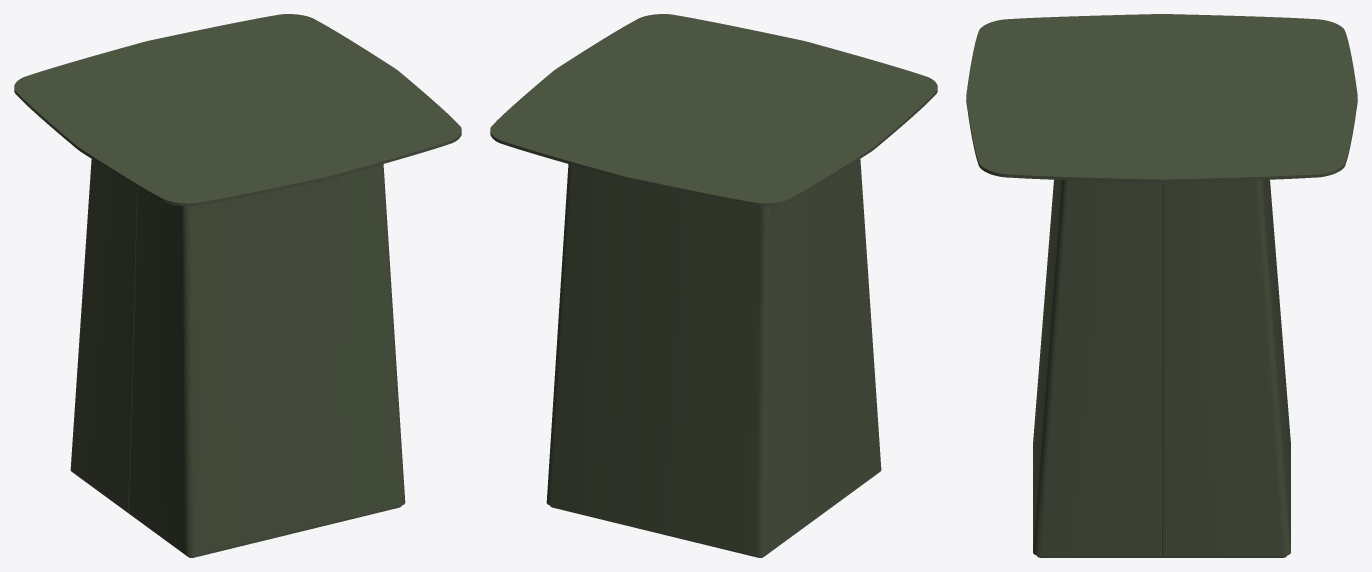
File: coffeetable-solid-square.glb
The picture shows the model from 3 angles, left to right: view 1: azimuth 30°, elevation 25°; view 2: azimuth 150°, elevation 25°; view 3: azimuth 270°, elevation 25°; orthographic projection. The views are drawn at different scales.
Parts seen in each view (by area): view 1: rb_coffeetable_solid_square_black; view 2: rb_coffeetable_solid_square_black; view 3: rb_coffeetable_solid_square_black.
Part boxes in pixels (x1,y1,x2,y2): rb_coffeetable_solid_square_black: [14, 14, 461, 557]; rb_coffeetable_solid_square_black: [490, 14, 937, 557]; rb_coffeetable_solid_square_black: [966, 14, 1357, 557].
Size of the model in its own units: 0.4 by 0.458 by 0.4.
